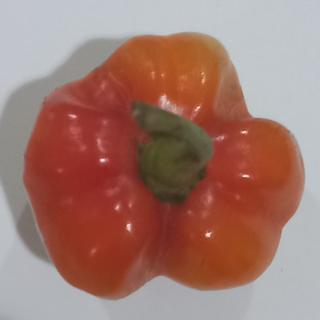Grade-B: (18, 27, 305, 300)
